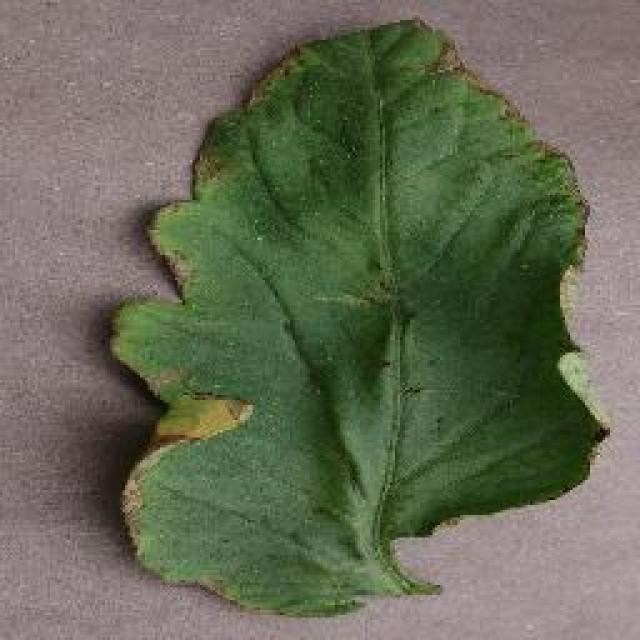bacterial spot: (111, 16, 614, 616)
